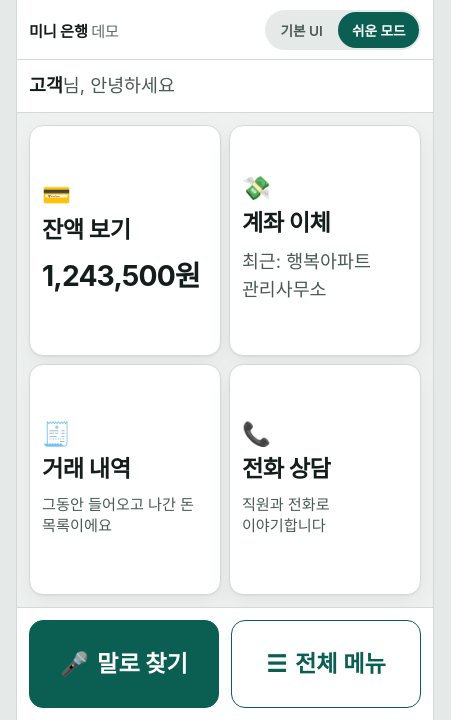
Test: 모드 전환 › 전환해도 같은 앱 안에 머문다
Check: the element named "화면 방식" is shown, box [265, 10, 421, 50]
Step 1. Click the button "기본 UI" → (302, 30), box [267, 12, 336, 48]
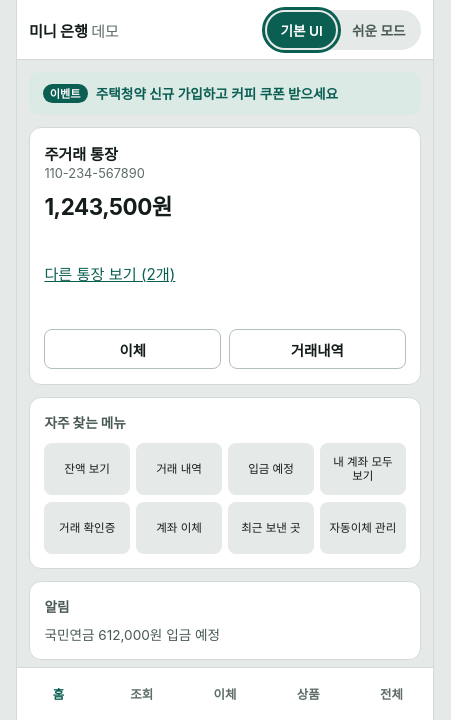
Check: the navigation bar named "주요 메뉴" is shown, box [17, 667, 433, 719]
Step 2. Click the button "쉬운 모드" → (379, 30), box [338, 12, 419, 48]
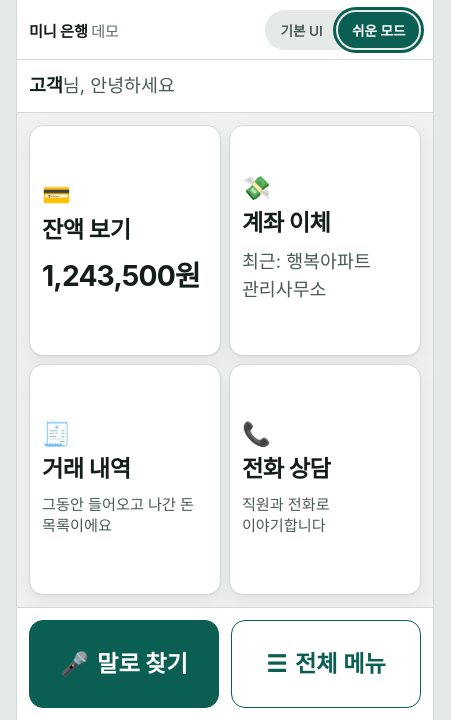
Check: the button "💳 잔액 보기 1,243,500원" is shown, box [29, 125, 221, 356]
